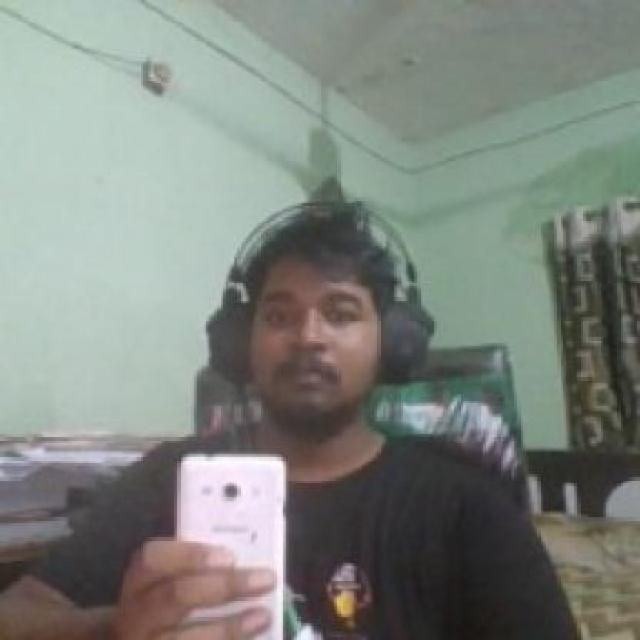Phone: (178, 452, 289, 637)
